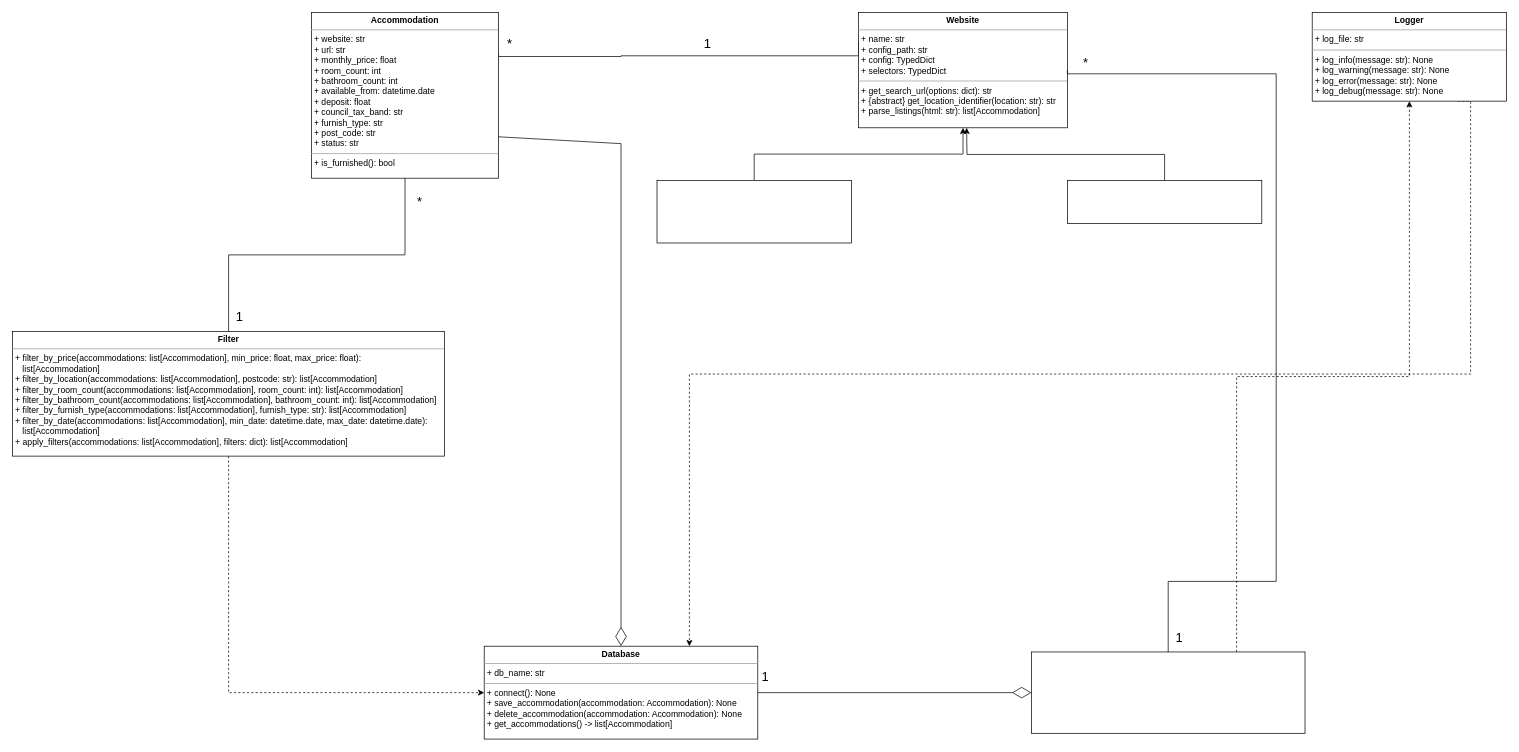
Image size: 1519x752. Some labels were removed from this diagram. The centre of each missing label's shape, as x and y in pixels:
"<<Interface>> RightmoveWebsite + get_location_identifier(location: str): str" belongs at point (753, 211).
"<<Interface>> ZooplaWebsite" belongs at point (1164, 202).
"Scraper + website: Website + scrape() -> list[Accommodation]" belongs at point (1168, 692).
